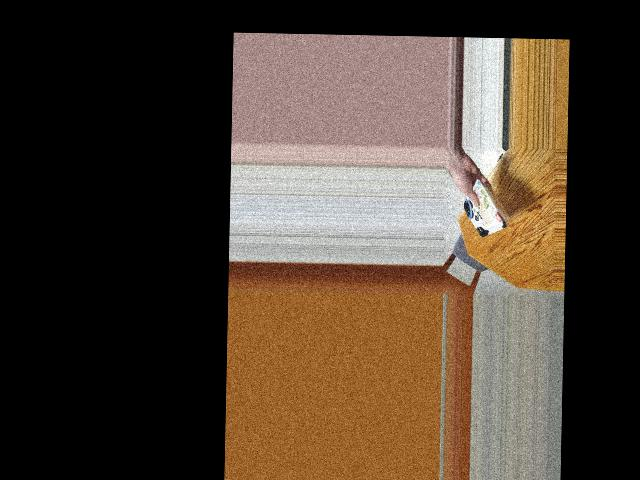cheese: (461, 183, 519, 241)
